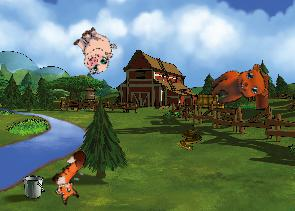bear: (204, 56, 274, 120)
fox: (42, 147, 103, 208)
pig: (66, 22, 122, 78)
